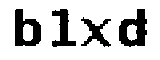1: (46, 5, 79, 51)
b: (10, 6, 42, 51)
d: (116, 6, 152, 51)
x: (78, 14, 115, 52)
